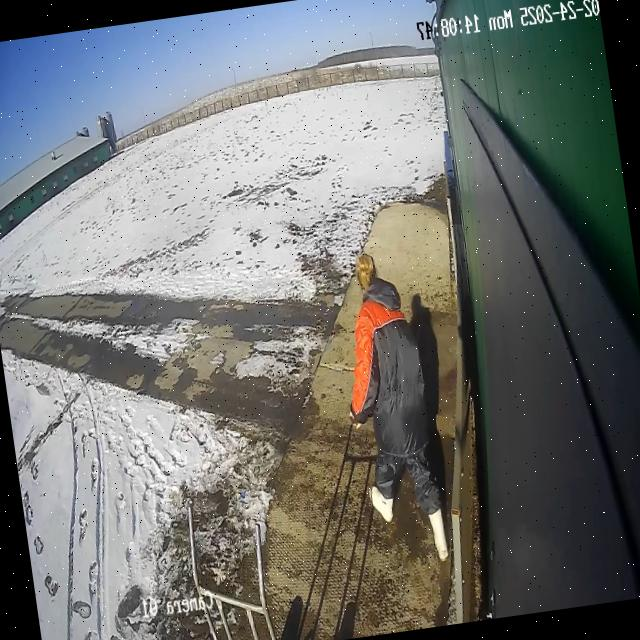Red uniform: (332, 272, 450, 526)
